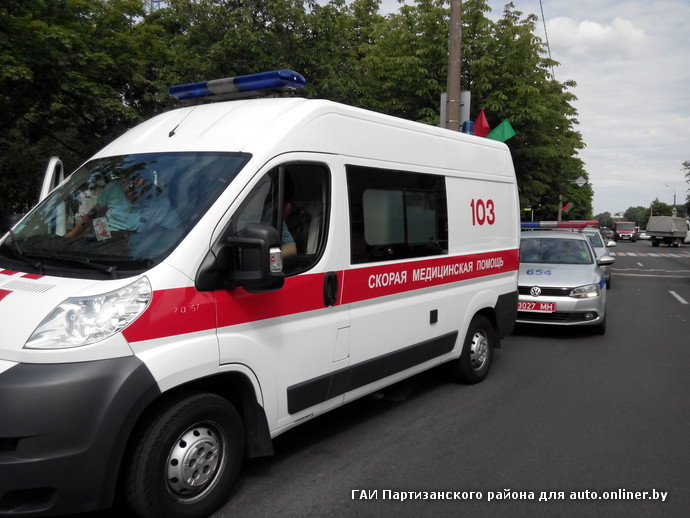special: (5, 71, 521, 518), (508, 221, 612, 333)
